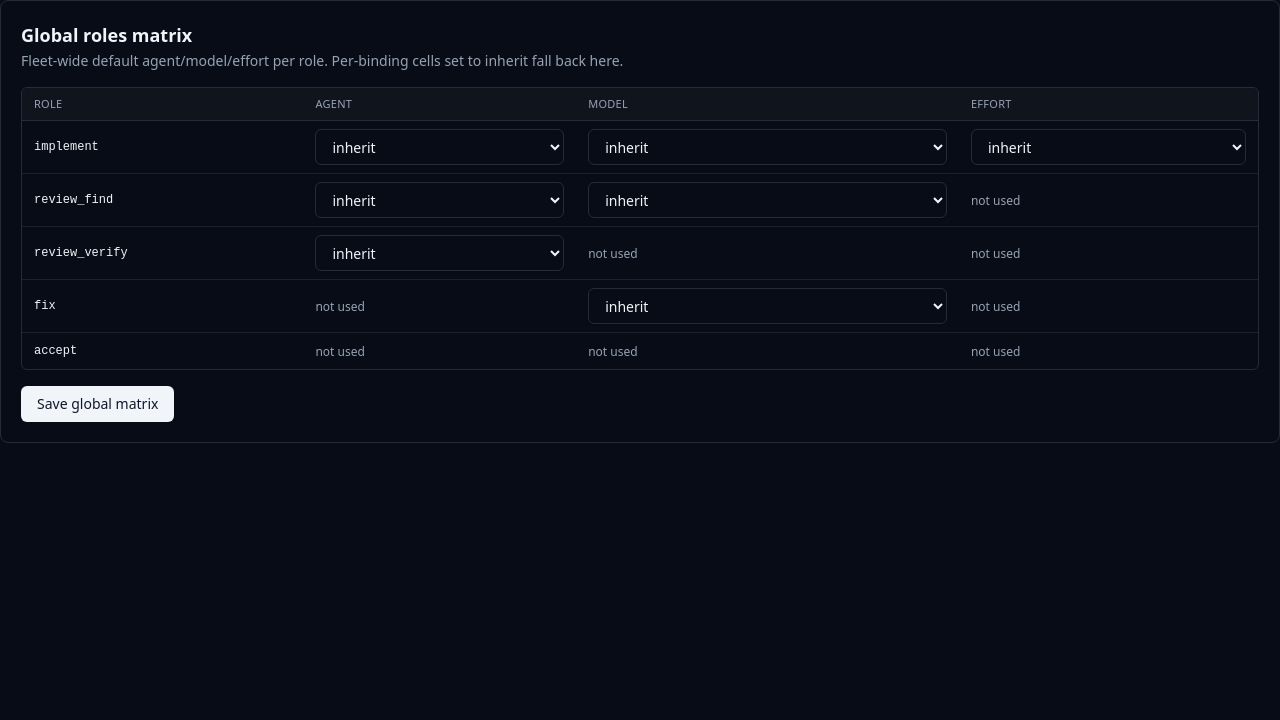
Scenario: GlobalRolesCard › shows a non-blocking warning banner and still succeeds
Click the button "Save global matrix" at (98, 404), box [21,386,174,422]
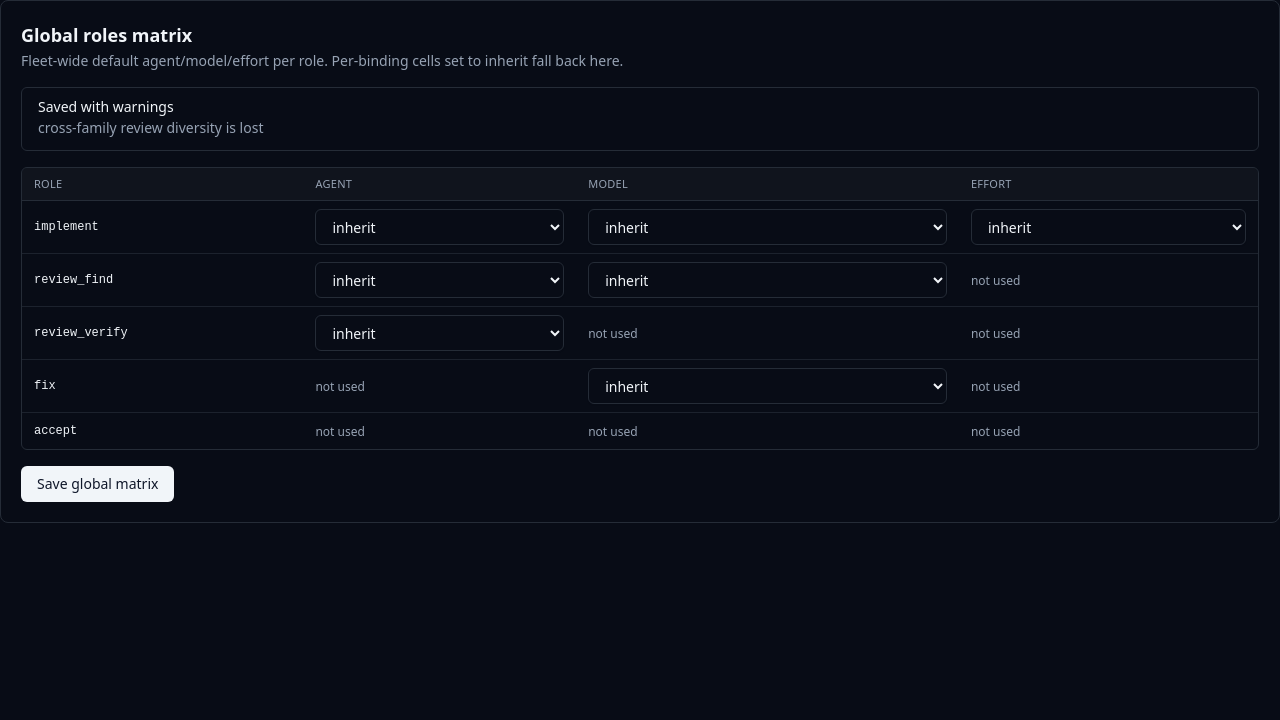
Expected: the text "cross-family review diversity is lost" is shown, [38,118,264,137]
Expected: the heading "Saved with warnings" is shown, [38,97,174,116]
